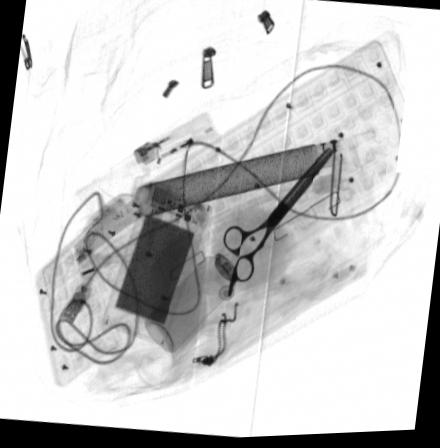Lighter: (131, 113, 215, 174)
Powerbank: (97, 178, 214, 348)
Scissors: (221, 147, 336, 300)
Sprayer: (139, 235, 262, 356)
